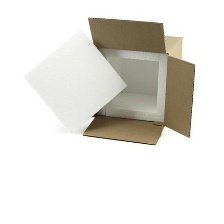foam_box: (20, 25, 131, 138), (76, 46, 172, 126)
